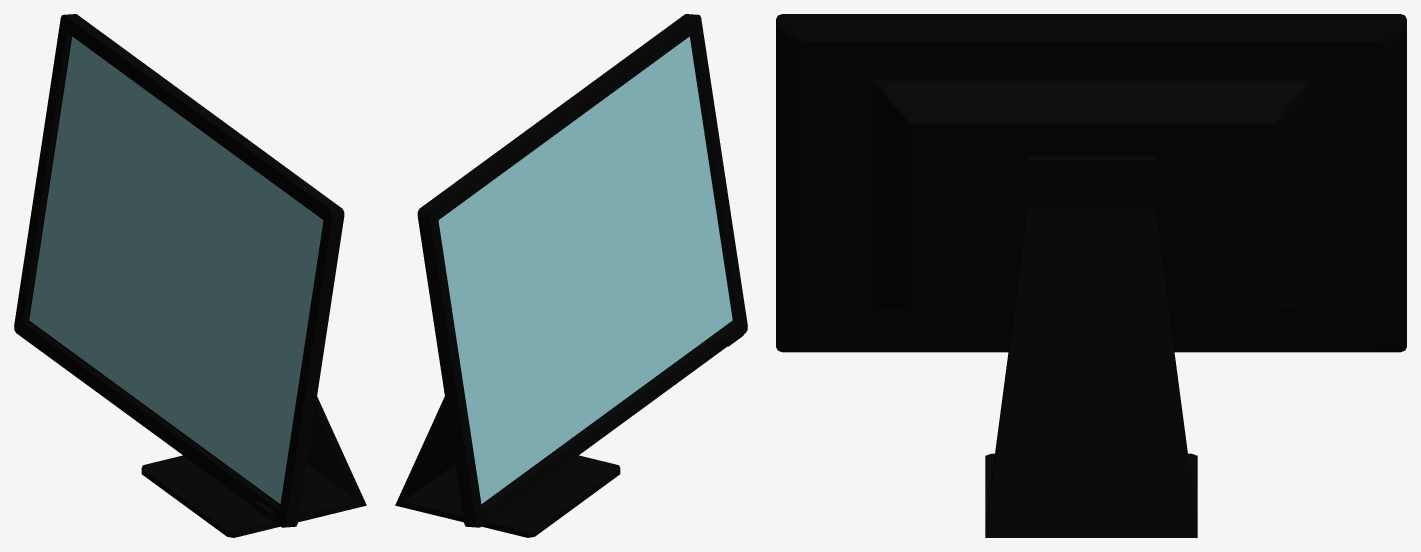
The model's file is Computer shiny.gltf.
3 renders of one model, left to right at view 1: azimuth 30°, elevation 25°; view 2: azimuth 150°, elevation 25°; view 3: azimuth 270°, elevation 25°, orthographic. The views are drawn at different scales.
Parts seen in each view (by area): view 1: 1335 Monitor.001; view 2: 1335 Monitor.001; view 3: 1335 Monitor.001.
Boxes of the visible parts, x1,y1,x2,y2 form: 1335 Monitor.001: (14, 14, 366, 537); 1335 Monitor.001: (395, 14, 747, 537); 1335 Monitor.001: (776, 14, 1406, 537).
Size of the model in its own units: 32.59 by 69.26 by 86.03.
2 materials, 1 textured.
